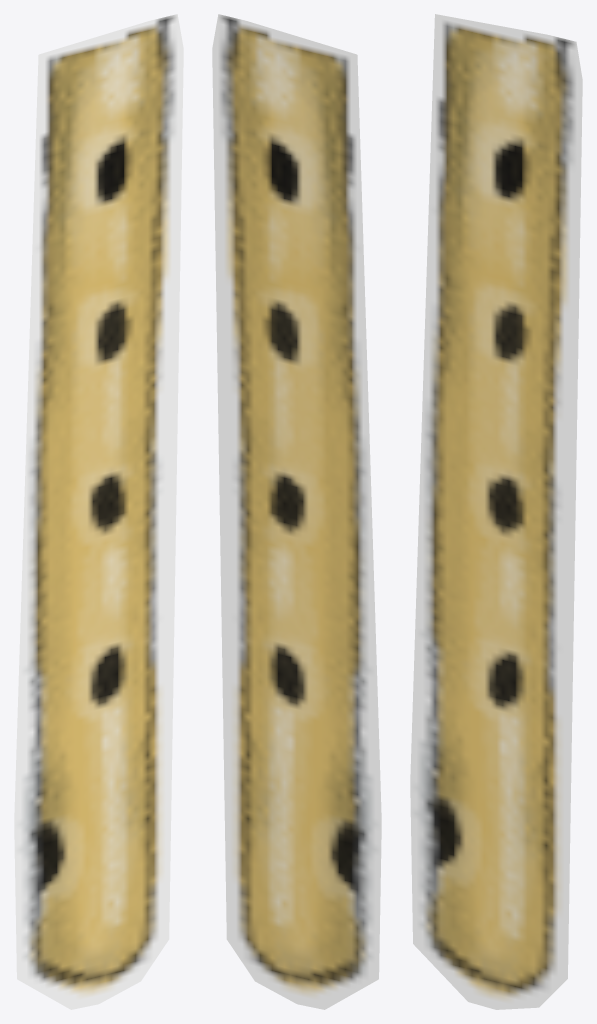
3 renders of one model, left to right at view 1: azimuth 30°, elevation 25°; view 2: azimuth 150°, elevation 25°; view 3: azimuth 330°, elevation 25°, orthographic.
Visible parts, largest first — view 1: Plane; view 2: Plane; view 3: Plane.
Part boxes in pixels (<box>): Plane: <box>14,14,183,1009</box>; Plane: <box>212,14,381,1009</box>; Plane: <box>410,14,582,1009</box>.
Size of the model in its own units: 0.5588 by 3.06 by 0.
Materials: 1 (1 with a texture image).
